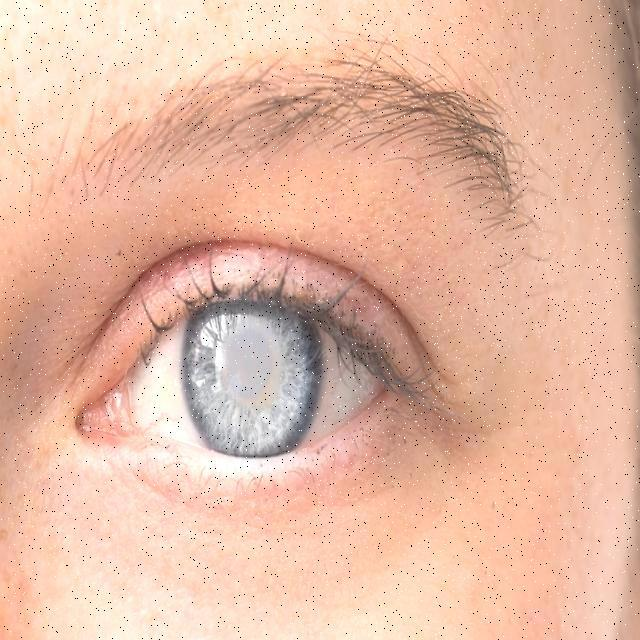Cataract: (173, 292, 336, 456)
